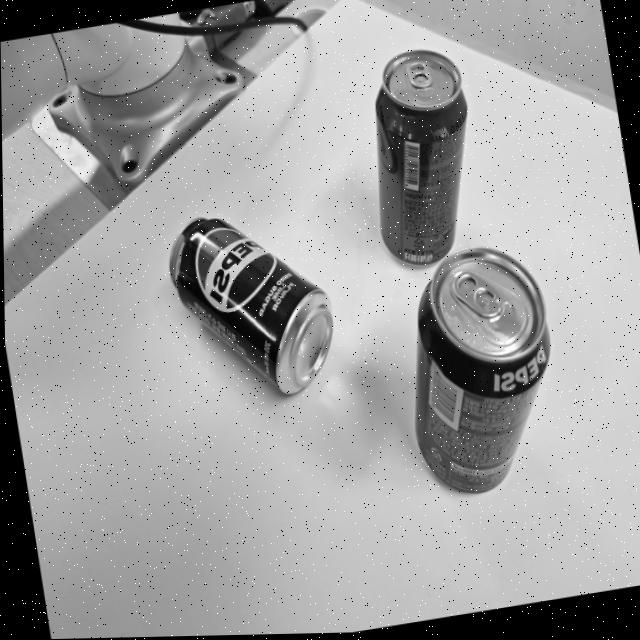can_coke_zero: (376, 50, 468, 265)
can_pepsi: (416, 247, 551, 493)
can_pepsi_zero: (170, 218, 333, 394)
